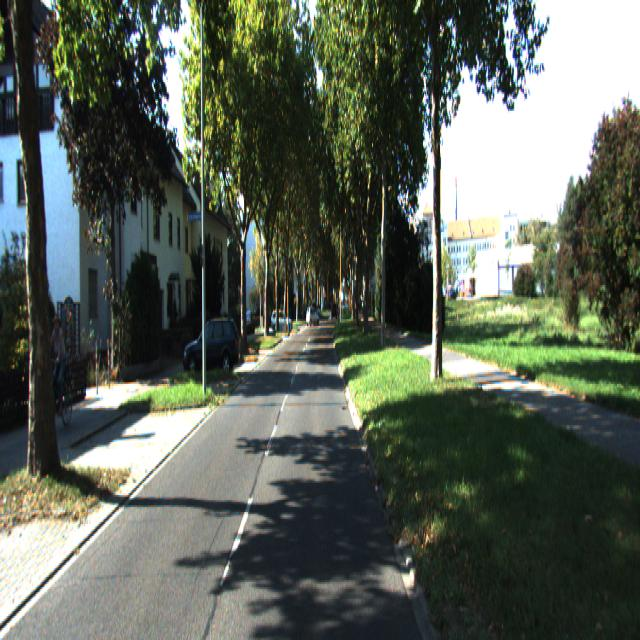Car: (182, 313, 240, 378)
